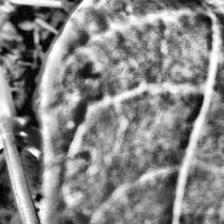ALS: (44, 0, 224, 224)
